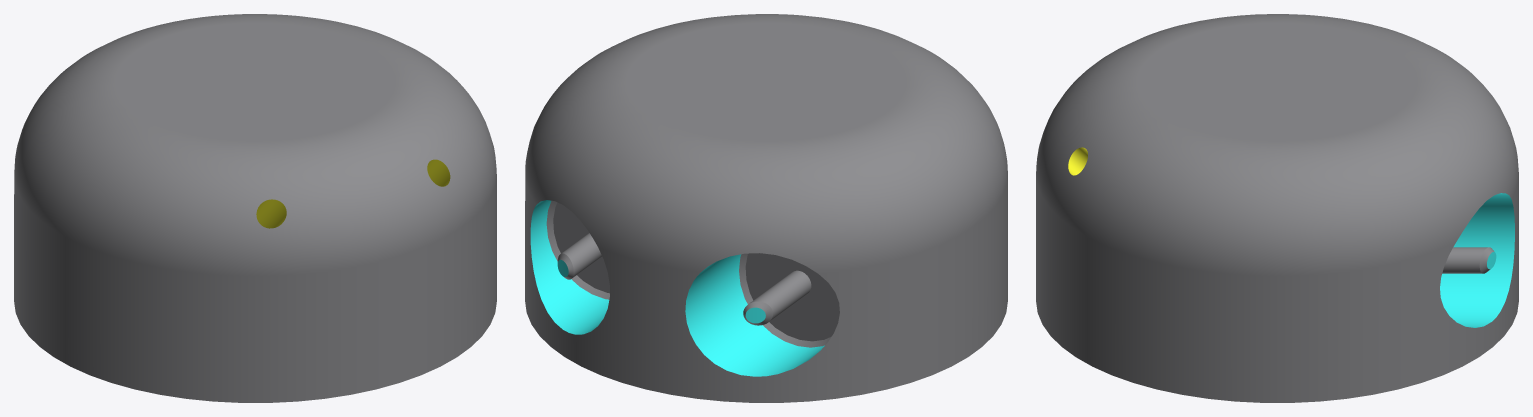
The model's file is head.glb.
The picture shows the model from 3 angles, left to right: view 1: azimuth 30°, elevation 25°; view 2: azimuth 150°, elevation 25°; view 3: azimuth 270°, elevation 25°; orthographic projection.
Parts seen in each view (by area): view 1: root; view 2: root; view 3: root.
Part boxes in pixels (x1,y1,x2,y2): root: (14,14,496,402); root: (525,14,1007,402); root: (1036,14,1518,402).
Bounding box in the file's own units: 0.9995 × 0.5 × 1.
